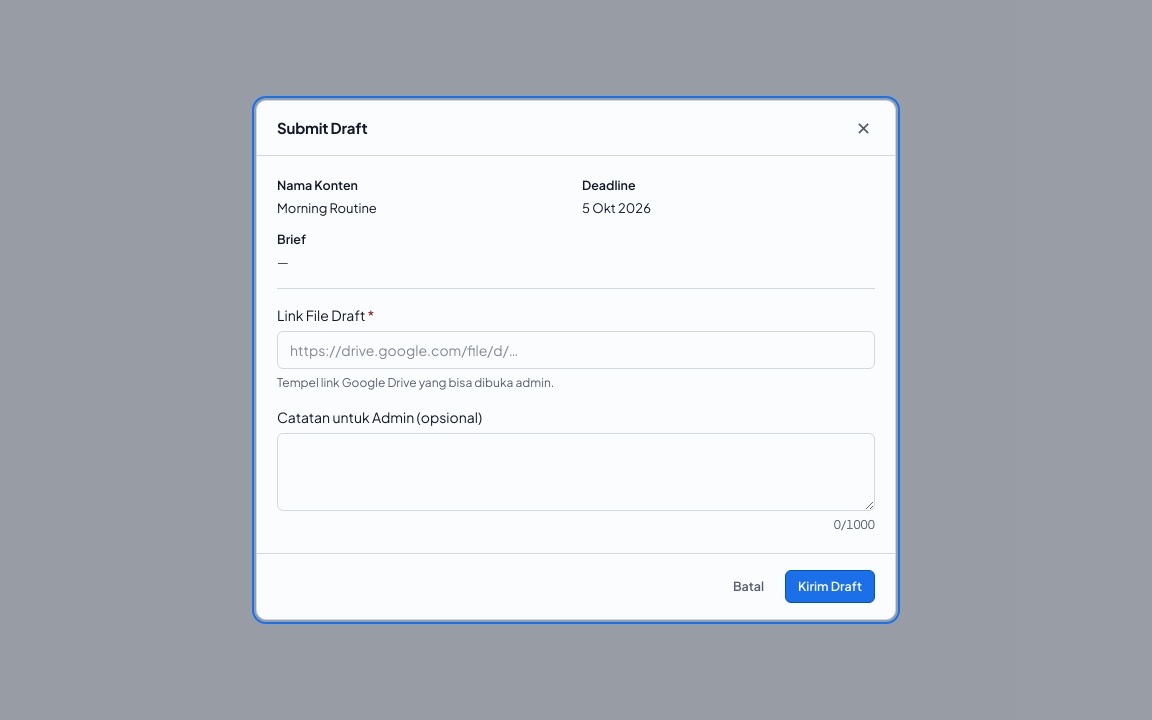
it: SubmitDraftModal › rejects a empty draft link
The width and height of the screenshot is (1152, 720).
Click the button "Kirim Draft". click: click(830, 587)
box: [785,570,875,603]
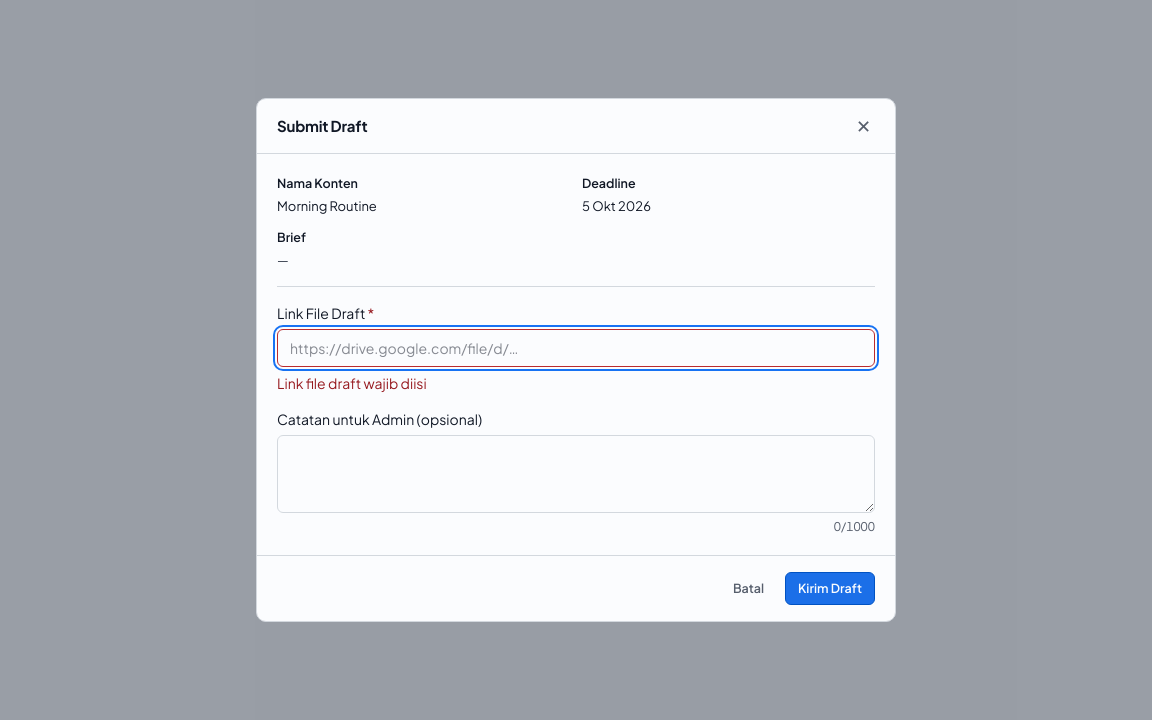
Check: the text "Link file draft wajib diisi" is shown, box [277,374,427,392]
